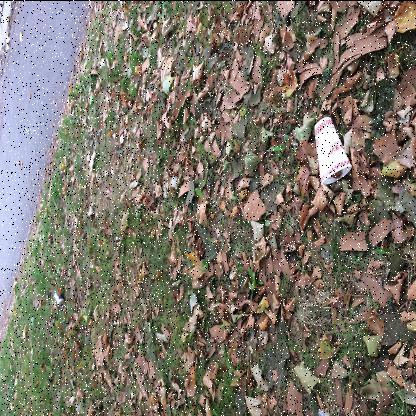cardboard: (313, 114, 353, 186)
